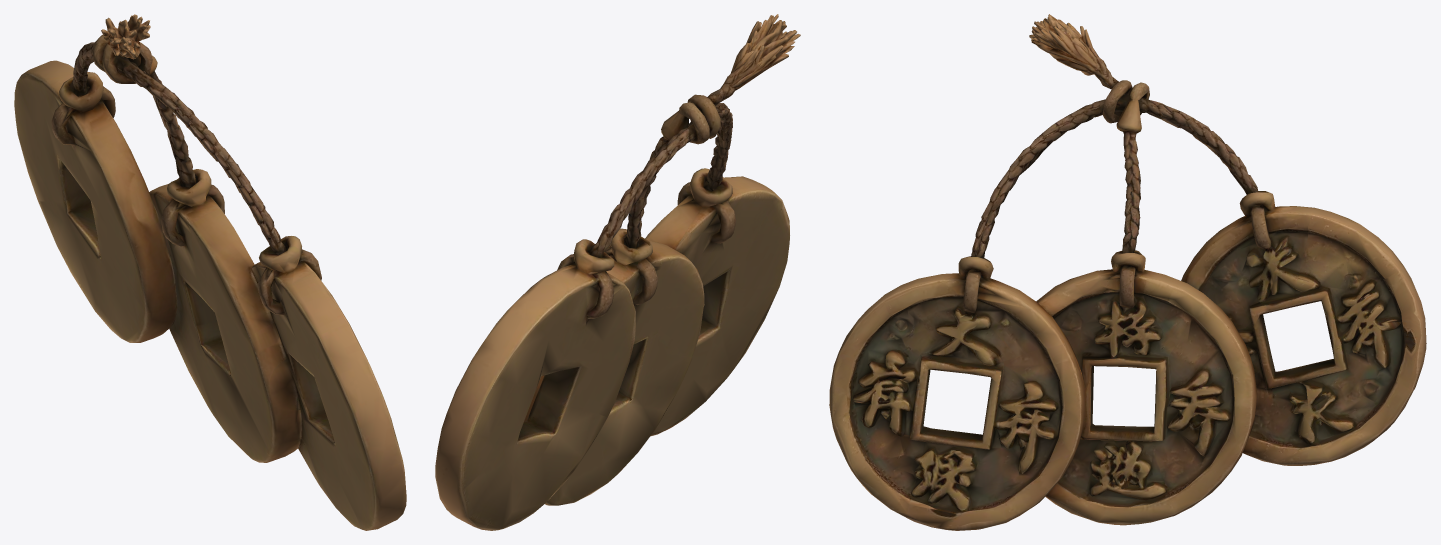
Rendered from offer-coins.glb.
The picture shows the model from 3 angles, left to right: view 1: azimuth 30°, elevation 25°; view 2: azimuth 150°, elevation 25°; view 3: azimuth 270°, elevation 25°; orthographic projection. The views are drawn at different scales.
Visible parts, largest first — view 1: tripo_node_0b45a3df-bccf-4879-870c-709bc16fa9f2; view 2: tripo_node_0b45a3df-bccf-4879-870c-709bc16fa9f2; view 3: tripo_node_0b45a3df-bccf-4879-870c-709bc16fa9f2.
Boxes of the visible parts, x1,y1,x2,y2 form: tripo_node_0b45a3df-bccf-4879-870c-709bc16fa9f2: [14, 14, 406, 530]; tripo_node_0b45a3df-bccf-4879-870c-709bc16fa9f2: [435, 14, 800, 530]; tripo_node_0b45a3df-bccf-4879-870c-709bc16fa9f2: [829, 14, 1426, 530].
Bounding box in the file's own units: 0.3641 × 0.8131 × 0.9987.
1 material, 1 textured.
